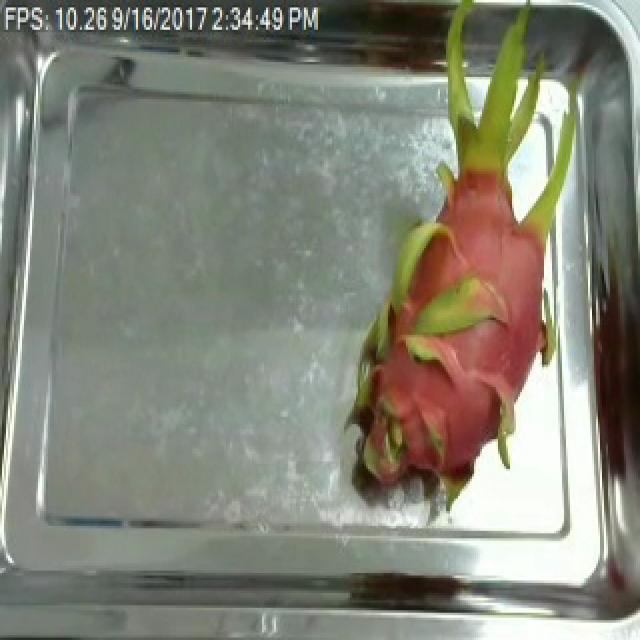fruit: (312, 97, 590, 523)
